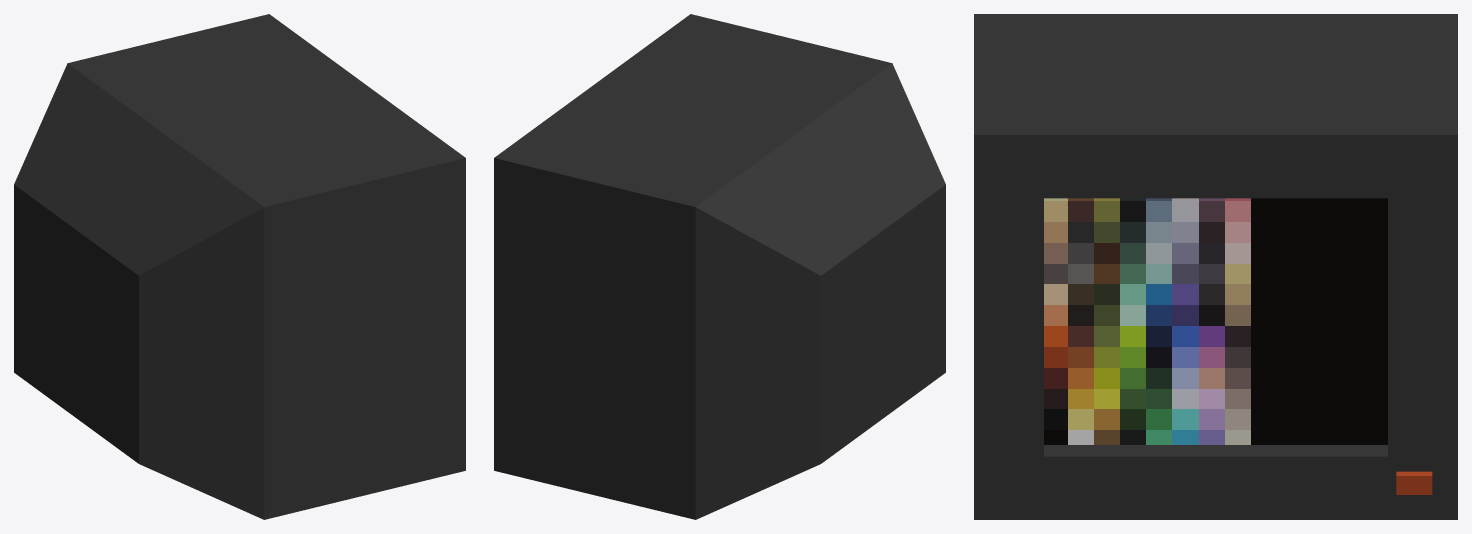
The model's file is television.fbx.
3 views of the same model, side by side, from view 1: azimuth 30°, elevation 25°; view 2: azimuth 150°, elevation 25°; view 3: azimuth 270°, elevation 25° (orthographic). The views are drawn at different scales.
Visible parts, largest first — view 1: television; view 2: television; view 3: television.
Part boxes in pixels (x1,y1,x2,y2): television: (14, 14, 465, 519); television: (494, 14, 945, 519); television: (974, 14, 1457, 519).
Bounding box in the file's own units: 70 × 61.33 × 61.42.
